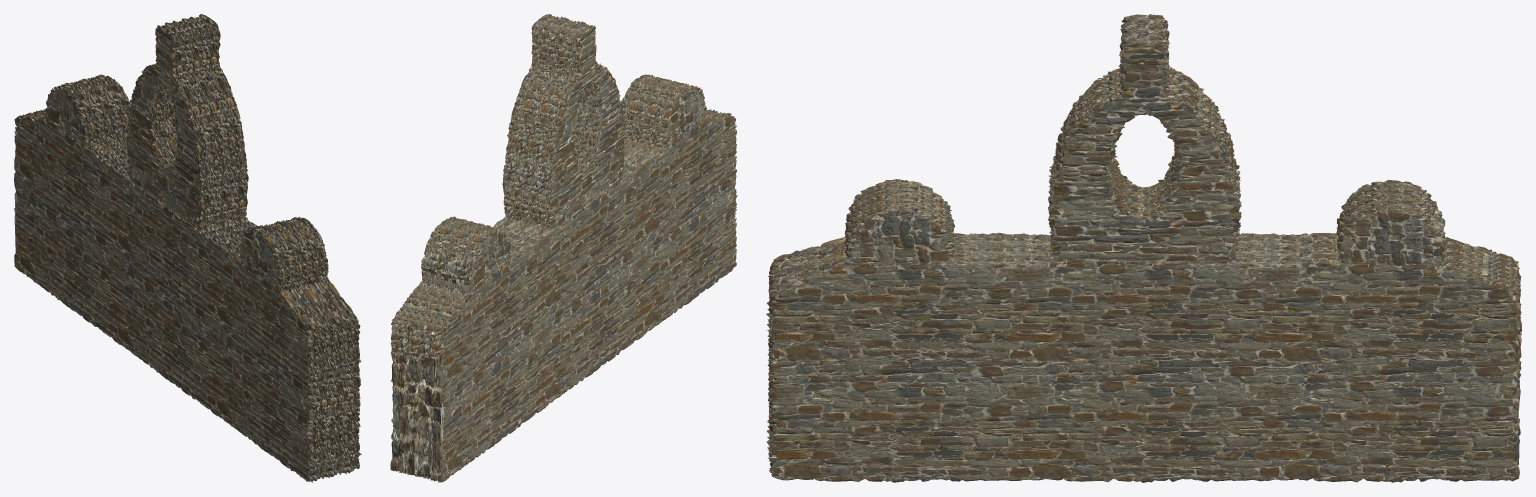
3 views of the same model, side by side, from view 1: azimuth 30°, elevation 25°; view 2: azimuth 150°, elevation 25°; view 3: azimuth 270°, elevation 25° (orthographic). The views are drawn at different scales.
Visible parts, largest first — view 1: Altar.003; view 2: Altar.003; view 3: Altar.003.
Boxes of the visible parts, left/top/right/bottom form: Altar.003: left=14, top=14, right=361, bottom=482; Altar.003: left=390, top=14, right=737, bottom=482; Altar.003: left=766, top=14, right=1521, bottom=482.
Bounding box in the file's own units: 2.78 × 17.91 × 27.82.
1 material, 1 textured.
